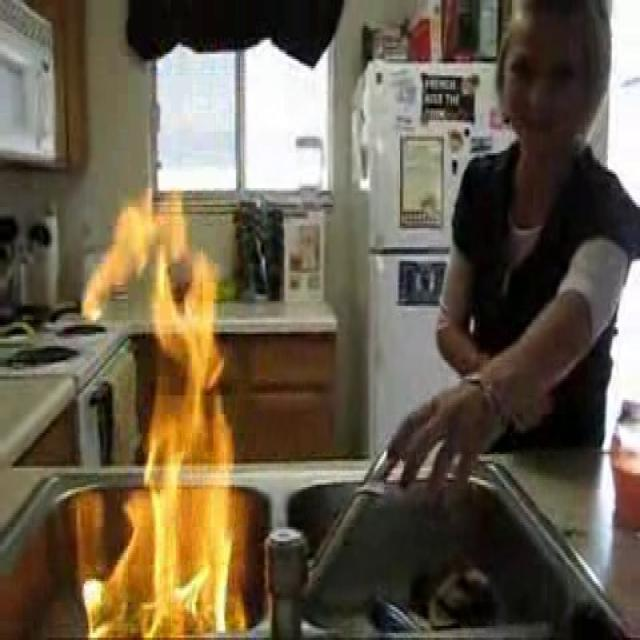Fire: (90, 214, 230, 632)
